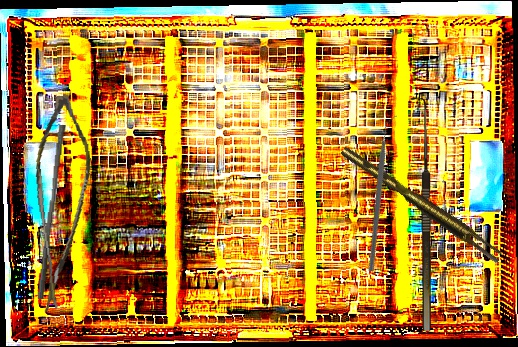Chopper: (312, 114, 455, 273)
Hook Surgical: (410, 98, 431, 331)
Micro Scissor: (14, 92, 112, 315)
Pusher: (36, 124, 67, 300)
Tissue Forceps: (340, 138, 505, 269)
